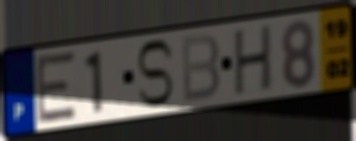1: (82, 48, 106, 116)
8: (279, 18, 318, 91)
B: (179, 31, 222, 106)
E: (35, 49, 78, 127)
H: (232, 22, 274, 99)
S: (134, 38, 176, 111)
